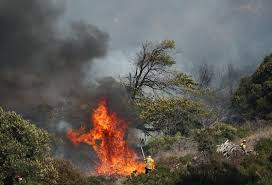smoke: (1, 1, 45, 106)
